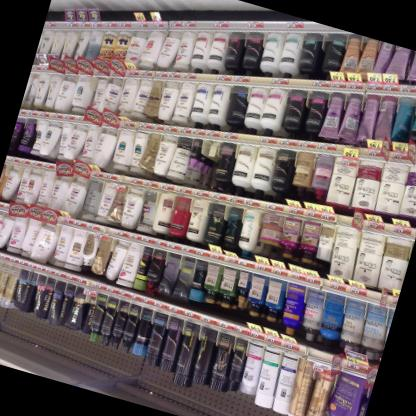empty_space: (192, 139, 221, 191)
